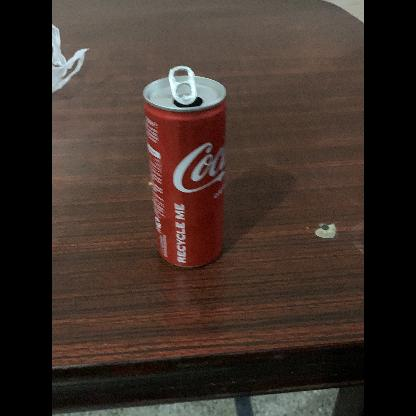Lid_Open: (166, 64, 212, 113)
Tin_Can: (144, 67, 236, 281)
